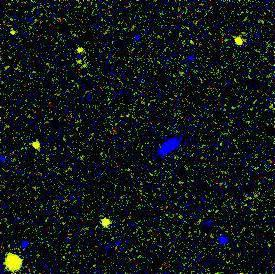star: (153, 135, 183, 165)
